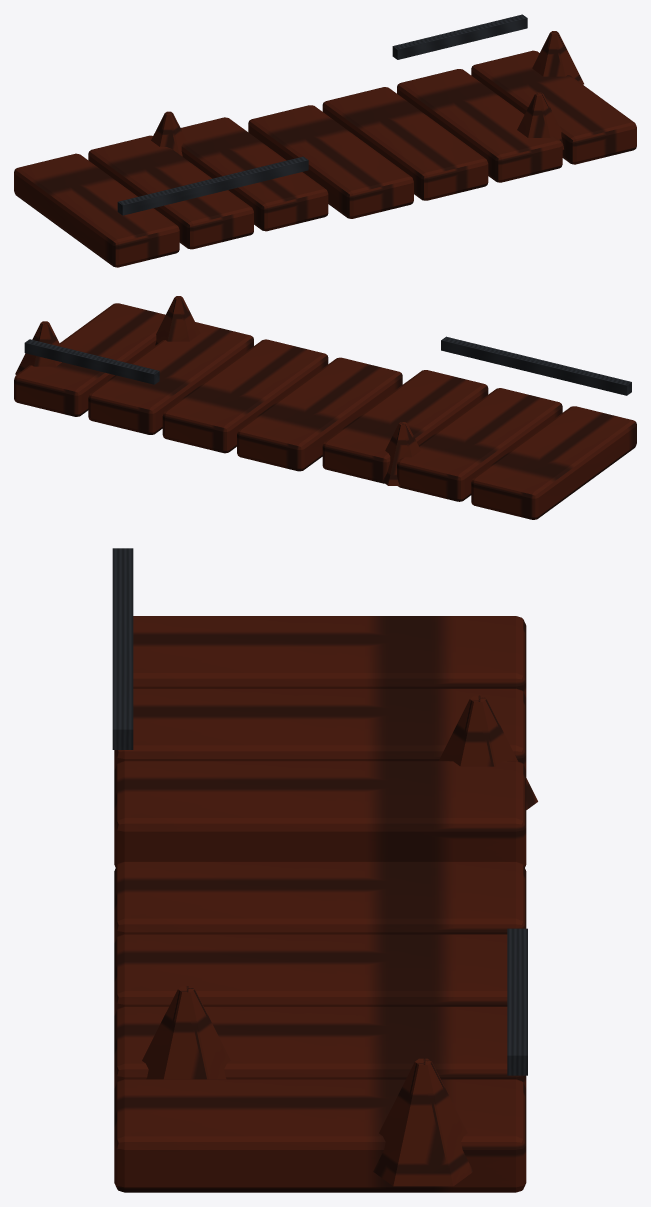
File: SM_FC_BrokenBridge_800.fbx
3 renders of one model, top to bottom at view 1: azimuth 30°, elevation 25°; view 2: azimuth 150°, elevation 25°; view 3: azimuth 270°, elevation 25°, orthographic. The views are drawn at different scales.
Parts seen in each view (by area): view 1: SM_FC_BrokenBridge_800; view 2: SM_FC_BrokenBridge_800; view 3: SM_FC_BrokenBridge_800.
Part boxes in pixels (<box>): SM_FC_BrokenBridge_800: <box>14,14,636,267</box>; SM_FC_BrokenBridge_800: <box>14,296,636,519</box>; SM_FC_BrokenBridge_800: <box>112,548,537,1192</box>.
Size of what is drawn, in the model's own units: 7.25 by 0.925 by 2.48.
